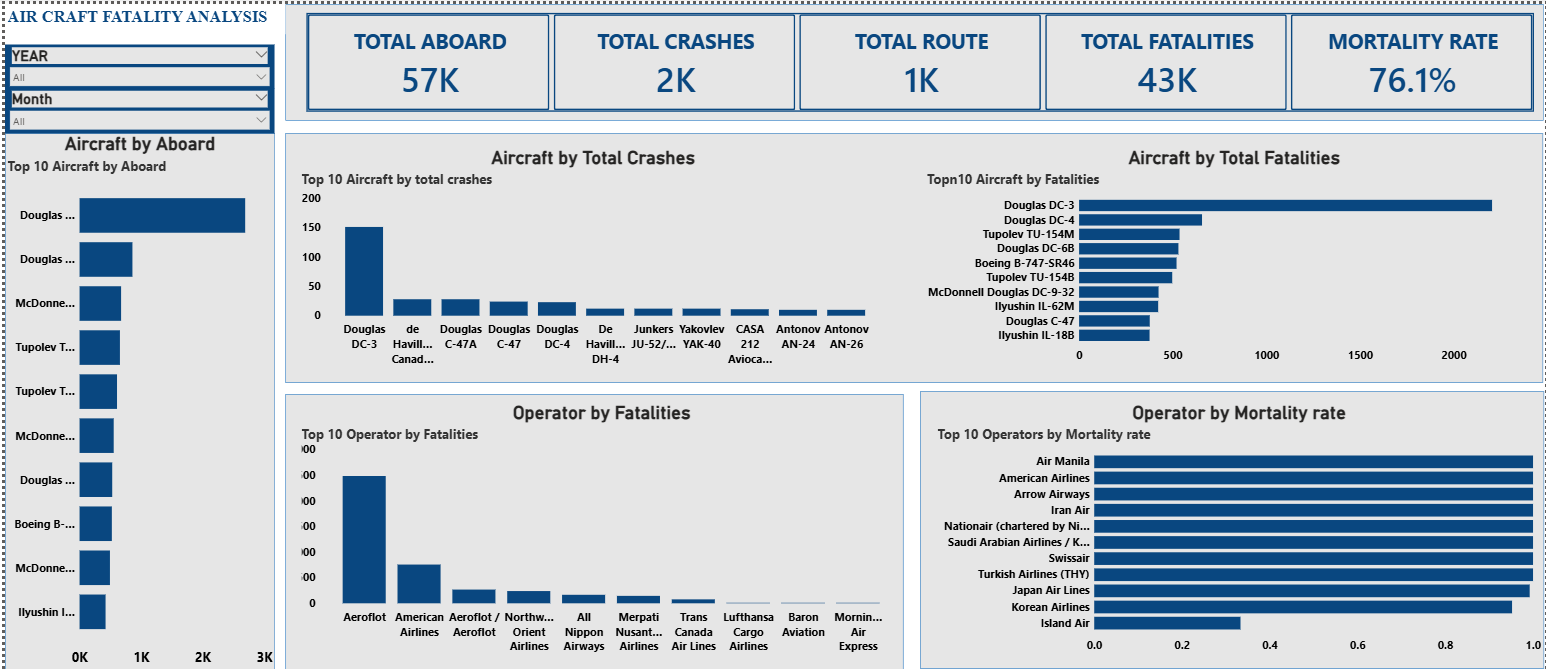

The dashboard page shown, as its layout file describes it:
{"tool":"powerbi","page":{"name":"AIRCRAFT AND OPERATOR ANALYSIS","canvas":[3000,1300],"ordinal":1},"visuals":[{"type":"shape","box":[546.5,0,2452.3,227.1],"z":0},{"type":"shape","box":[547.8,759.6,1204.4,541.7],"z":1000},{"type":"shape","box":[547.8,251.2,2451.3,487.2],"z":2000},{"type":"shape","box":[0,251.4,526.2,1049.6],"z":3000},{"type":"shape","box":[1782.5,753.5,1216.5,541.7],"z":4000},{"type":"barChart","title":"Operator by Mortality rate","fields":{"Y":["Airplane_Crashes_and_Fatalities.MORTALITY RATE"],"Category":["Airplane_Crashes_and_Fatalities.Operator"]},"box":[1812.7,774.7,1186.3,499.3],"z":5000},{"type":"columnChart","title":"Operator by Fatalities","fields":{"Category":["Airplane_Crashes_and_Fatalities.Operator"],"Y":["Airplane_Crashes_and_Fatalities.TOTAL FATALITIES"]},"box":[572,774.7,1180.2,499.3],"z":6000},{"type":"cardVisual","fields":{"Data":["Airplane_Crashes_and_Fatalities.TOTAL ABOARD","Airplane_Crashes_and_Fatalities.TOTAL CRASHES","Airplane_Crashes_and_Fatalities.total route","Airplane_Crashes_and_Fatalities.TOTAL FATALITIES","Airplane_Crashes_and_Fatalities.MORTALITY RATE"]},"box":[571.4,0,2427.5,227.1],"z":7000},{"type":"columnChart","title":"Aircraft by Total Crashes","fields":{"Category":["Airplane_Crashes_and_Fatalities.Type"],"Y":["Airplane_Crashes_and_Fatalities.TOTAL CRASHES"]},"box":[572,278.4,1146.9,435.8],"z":8000},{"type":"barChart","title":"Aircraft by Total Fatalities","fields":{"Category":["Airplane_Crashes_and_Fatalities.Type"],"Y":["Airplane_Crashes_and_Fatalities.TOTAL FATALITIES"]},"box":[1791.5,278.4,1207.5,432.8],"z":9000},{"type":"clusteredBarChart","title":"Aircraft by Aboard","fields":{"Category":["Airplane_Crashes_and_Fatalities.Type"],"Y":["Airplane_Crashes_and_Fatalities.TOTAL ABOARD"]},"box":[0,251.4,526.2,1049.6],"z":10000},{"type":"textbox","box":[0,0,526,227],"z":11000},{"type":"textbox","box":[0,0,546.7,58.5],"z":12000},{"type":"slicer","fields":{"Values":["calender.year"]},"box":[0,78.1,525.2,85.2],"z":13000},{"type":"slicer","fields":{"Values":["calender.month"]},"box":[0,163.3,525.2,88.7],"z":14000}]}

Visuals, with their boxes in screenshot pixels (x1, y1, x2, y2), scaled from the page's 3000x1300 canvas onto the 1546x669 screenshot:
shape: box(282, 0, 1545, 117)
shape: box(282, 391, 903, 668)
shape: box(282, 129, 1545, 380)
shape: box(0, 129, 271, 668)
shape: box(919, 388, 1545, 667)
"Operator by Mortality rate" barChart: box(934, 399, 1545, 656)
"Operator by Fatalities" columnChart: box(295, 399, 903, 656)
cardVisual - Airplane_Crashes_and_Fatalities.TOTAL ABOARD x Airplane_Crashes_and_Fatalities.TOTAL CRASHES: box(294, 0, 1545, 117)
"Aircraft by Total Crashes" columnChart: box(295, 143, 886, 368)
"Aircraft by Total Fatalities" barChart: box(923, 143, 1545, 366)
"Aircraft by Aboard" clusteredBarChart: box(0, 129, 271, 668)
textbox: box(0, 0, 271, 117)
textbox: box(0, 0, 282, 30)
slicer - calender.year: box(0, 40, 271, 84)
slicer - calender.month: box(0, 84, 271, 130)
